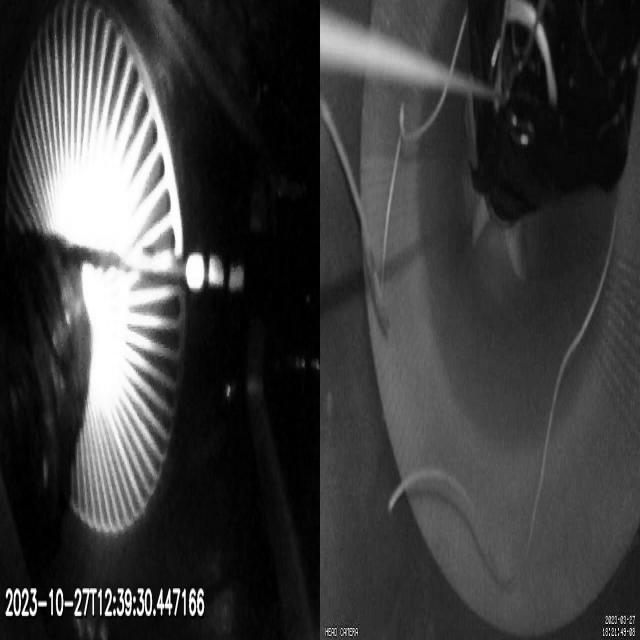white-dots: (186, 253, 243, 291)
